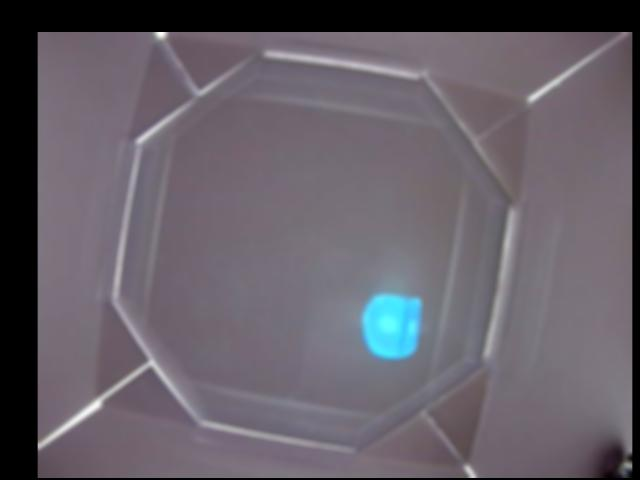Carrot: (364, 293, 422, 358)
